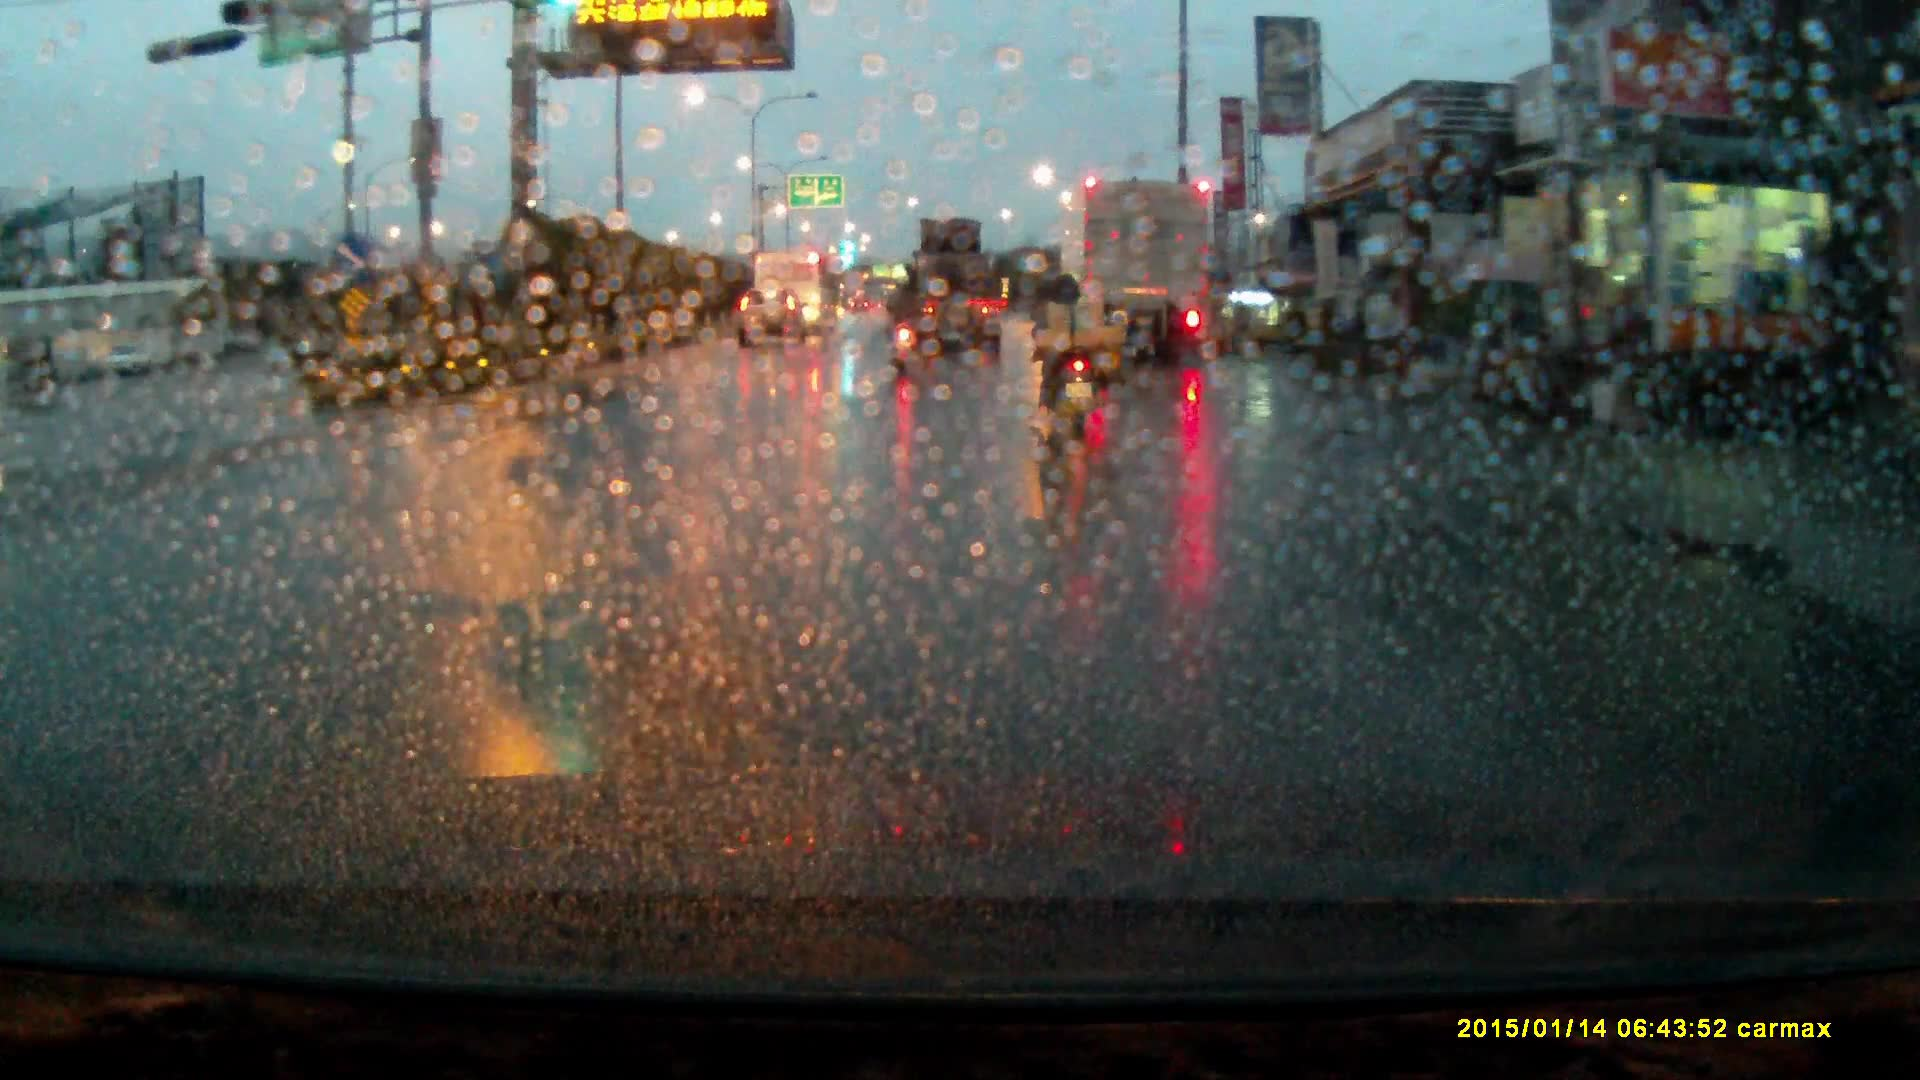rider: (1031, 264, 1114, 434), (890, 268, 928, 367)
vehicle: (1060, 181, 1219, 365), (899, 217, 1001, 358), (768, 244, 843, 327), (739, 285, 811, 351)
